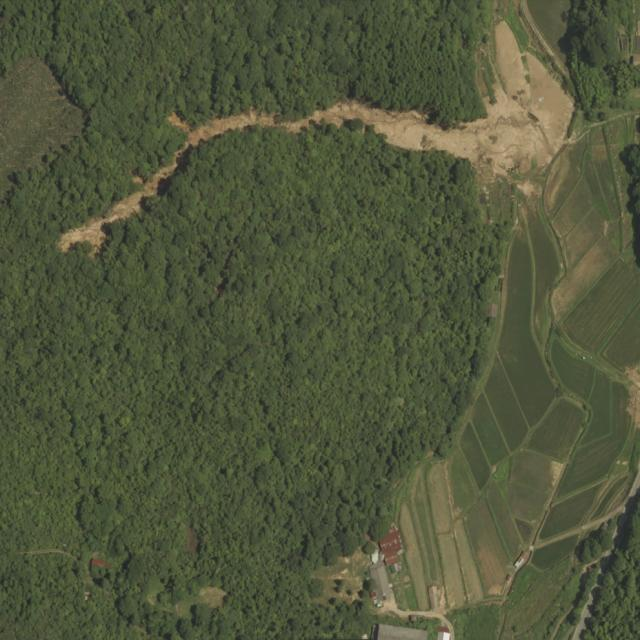landslide: (170, 21, 575, 181), (59, 163, 175, 251)
